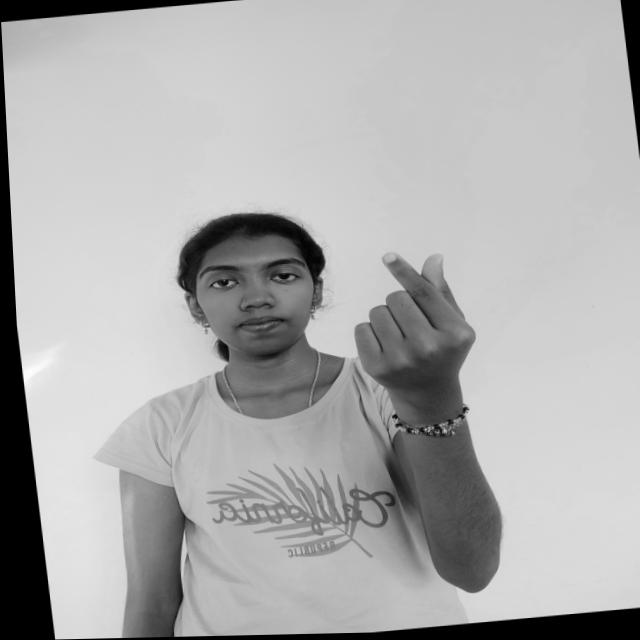Grattitude: (328, 234, 495, 413)
